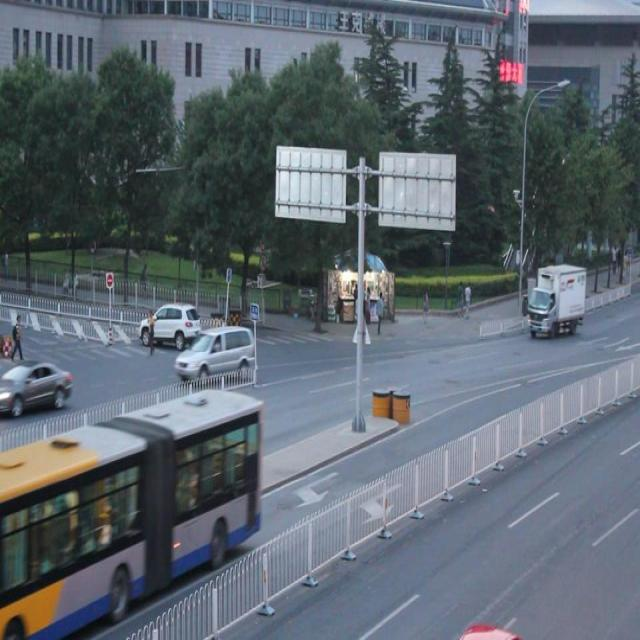bus: (527, 264, 585, 335)
car: (0, 354, 72, 420), (177, 329, 256, 381), (138, 302, 201, 350)
van: (1, 390, 262, 630)
